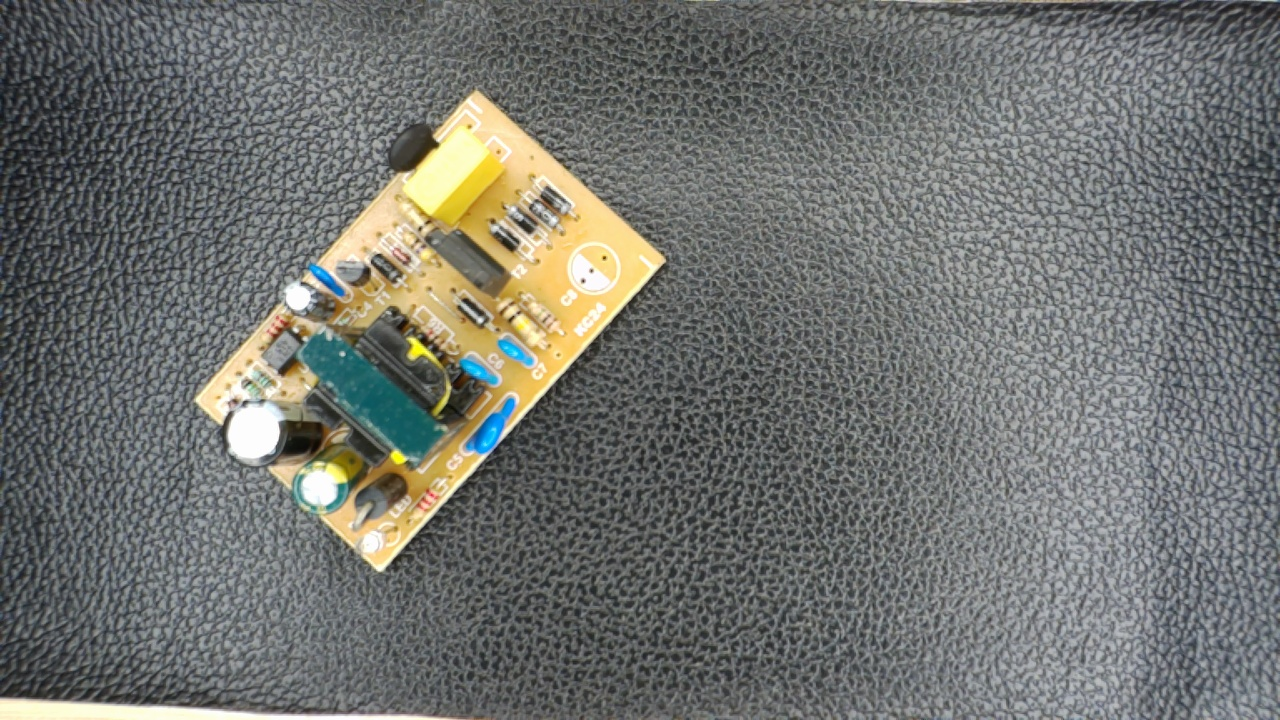fuse: (380, 125, 449, 179)
mov: (456, 395, 518, 459)
optocoupler: (252, 326, 303, 377)
